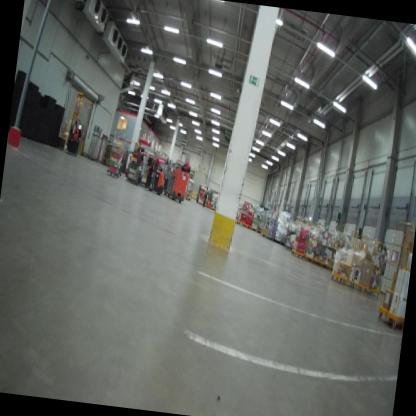pallet_truck: (127, 142, 171, 197), (164, 162, 192, 205), (64, 112, 84, 155), (123, 153, 134, 183)
